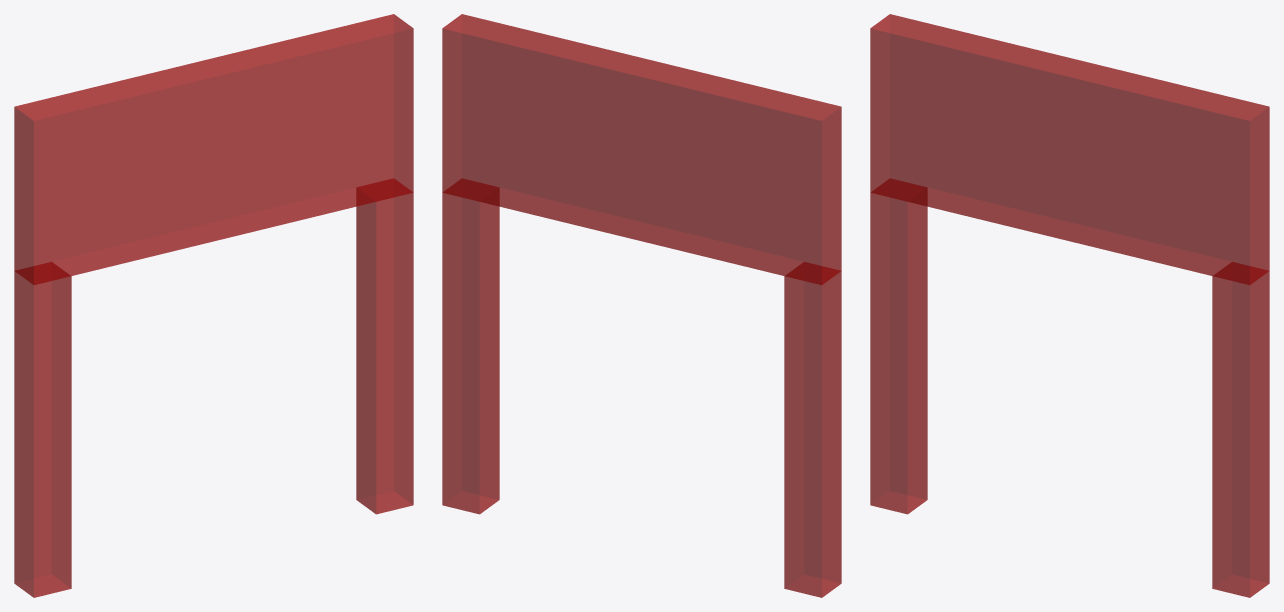
The model's file is SM_Bld_Base_Wall_Door_Double_01_Collision.fbx.
3 views of the same model, side by side, from view 1: azimuth 30°, elevation 25°; view 2: azimuth 150°, elevation 25°; view 3: azimuth 330°, elevation 25° (orthographic).
Visible parts, largest first — view 1: SM_Bld_Base_Wall_Door_Double_01_Collision; view 2: SM_Bld_Base_Wall_Door_Double_01_Collision; view 3: SM_Bld_Base_Wall_Door_Double_01_Collision.
Part boxes in pixels (box(x1,y1,x2,y2)): SM_Bld_Base_Wall_Door_Double_01_Collision: box(14, 14, 413, 597); SM_Bld_Base_Wall_Door_Double_01_Collision: box(442, 14, 841, 597); SM_Bld_Base_Wall_Door_Double_01_Collision: box(870, 14, 1269, 597).
Bounding box in the file's own units: 250 × 300 × 22.5.
